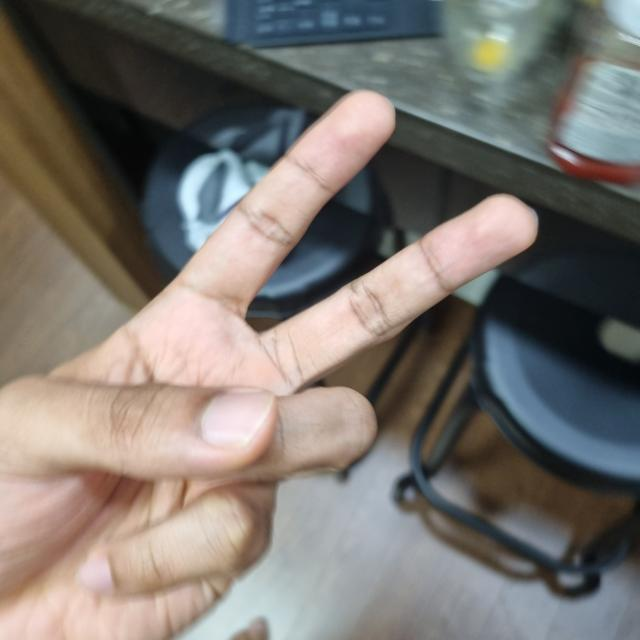Scissors: (0, 96, 537, 639)
